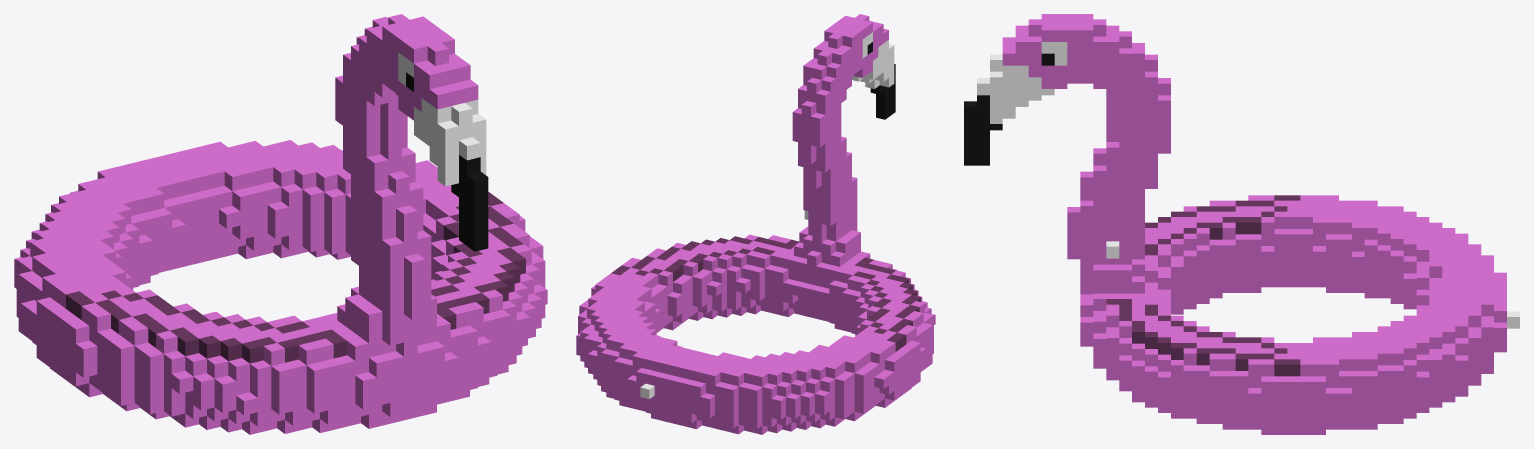
The model's file is GameAsset4.fbx.
3 views of the same model, side by side, from view 1: azimuth 30°, elevation 25°; view 2: azimuth 150°, elevation 25°; view 3: azimuth 270°, elevation 25° (orthographic). The views are drawn at different scales.
Visible parts, largest first — view 1: Cube.002; view 2: Cube.002; view 3: Cube.002.
Part boxes in pixels (<box>): Cube.002: <box>14,14,547,434</box>; Cube.002: <box>576,14,935,434</box>; Cube.002: <box>964,14,1519,434</box>.
Bounding box in the file's own units: 347 × 295 × 453.
